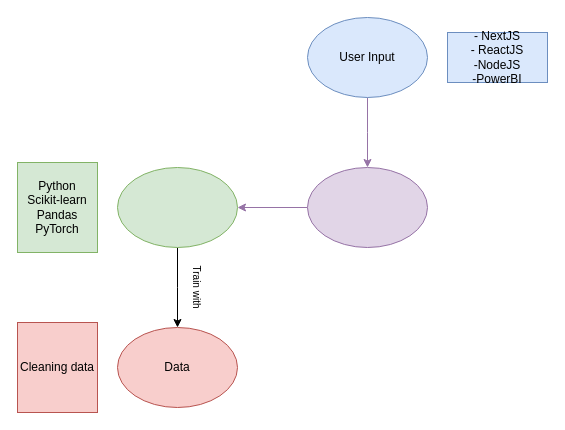
Some shapes in this 565 by 430 pixel diagram are drawn without their labels. Each missing label, with the centre of its shape:
"AI Agent" belongs at (367,207).
"ML Model" belongs at (177,207).
